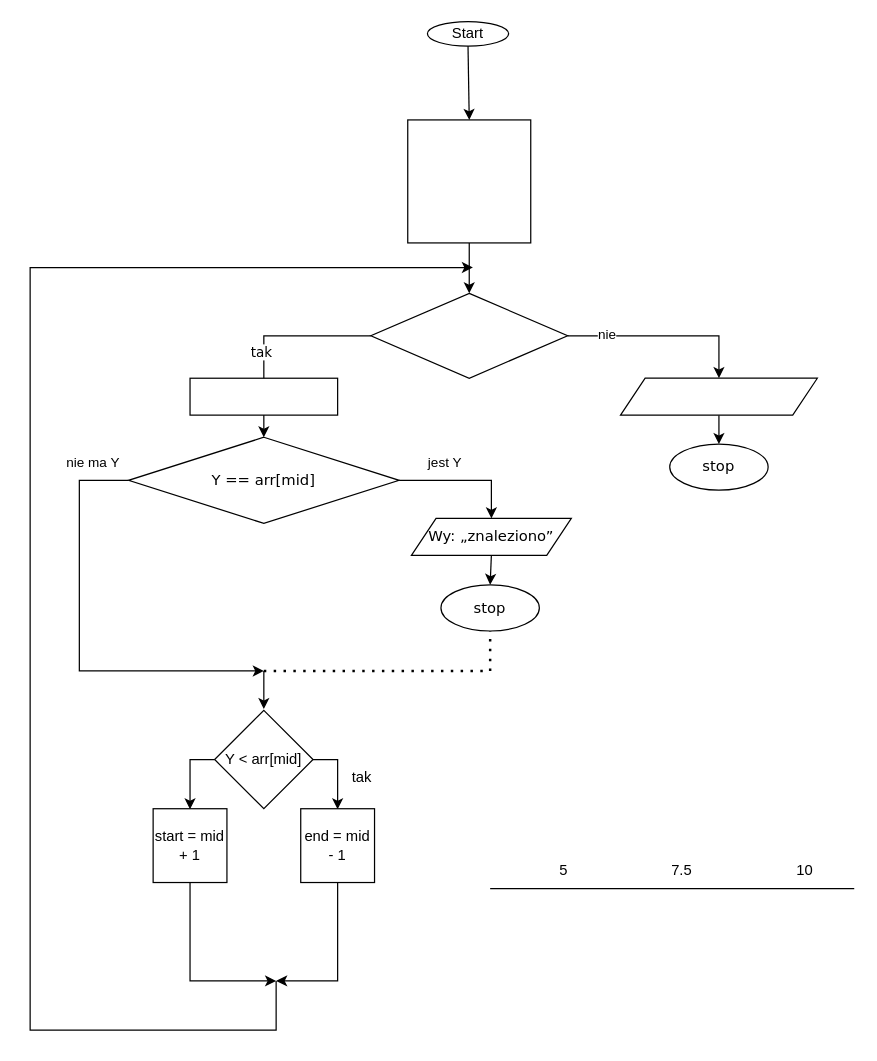
Image size: 877x1061. Some labels were removed from this diagram. The box of each missing label's shape, as (x1, y1, x2, y2) in pixels:
int arr[N] {1, 5, 8, 10, 15, 17, ...} int start = 0, end = N - 1, mid, Y = 10;: (407, 119, 531, 243)
mid = (start + end) / 2: (189, 377, 338, 415)
start <= end: (370, 292, 568, 378)
Wy: „nie znaleziono”: (619, 377, 817, 415)
